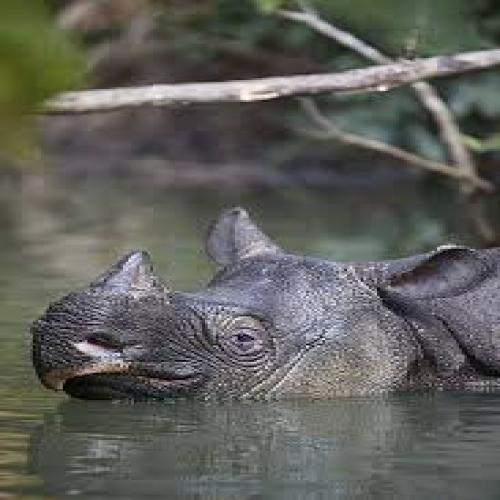rhino-endangered: (26, 208, 492, 400)
